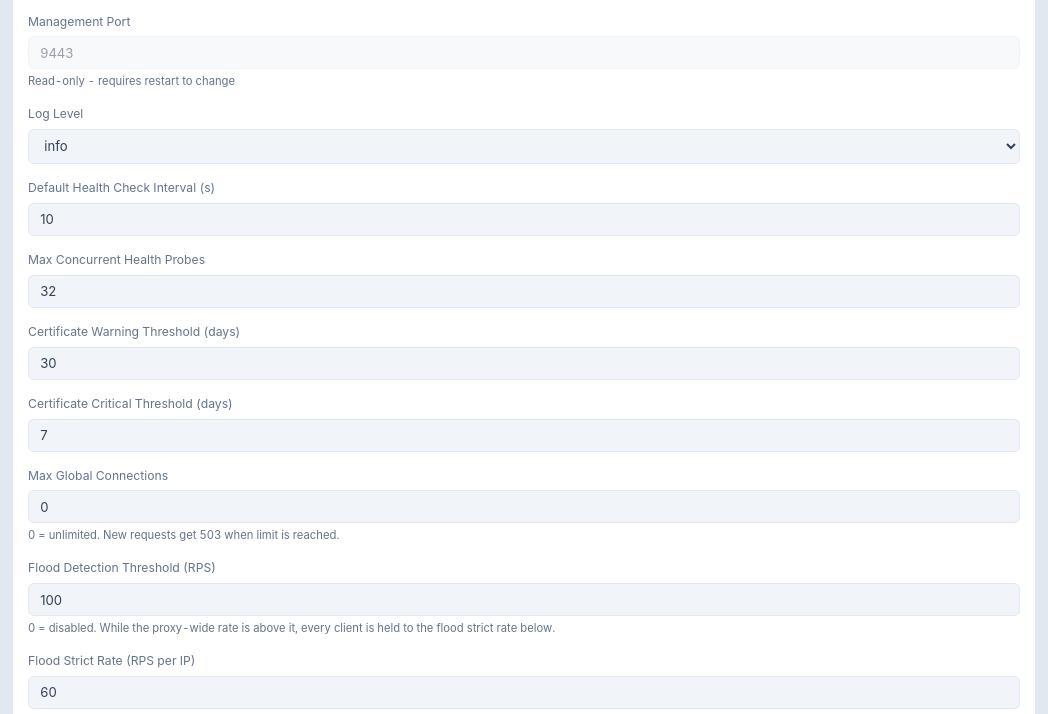
GlobalConfigTab, the settings backlog #89 added › re-weighs the strict rate when the threshold moves under it
Replace the text in the number field labelled "Flood Detection Threshold (RPS)" with "50" at (524, 600), box [28, 583, 1020, 616]
(page scrolled)
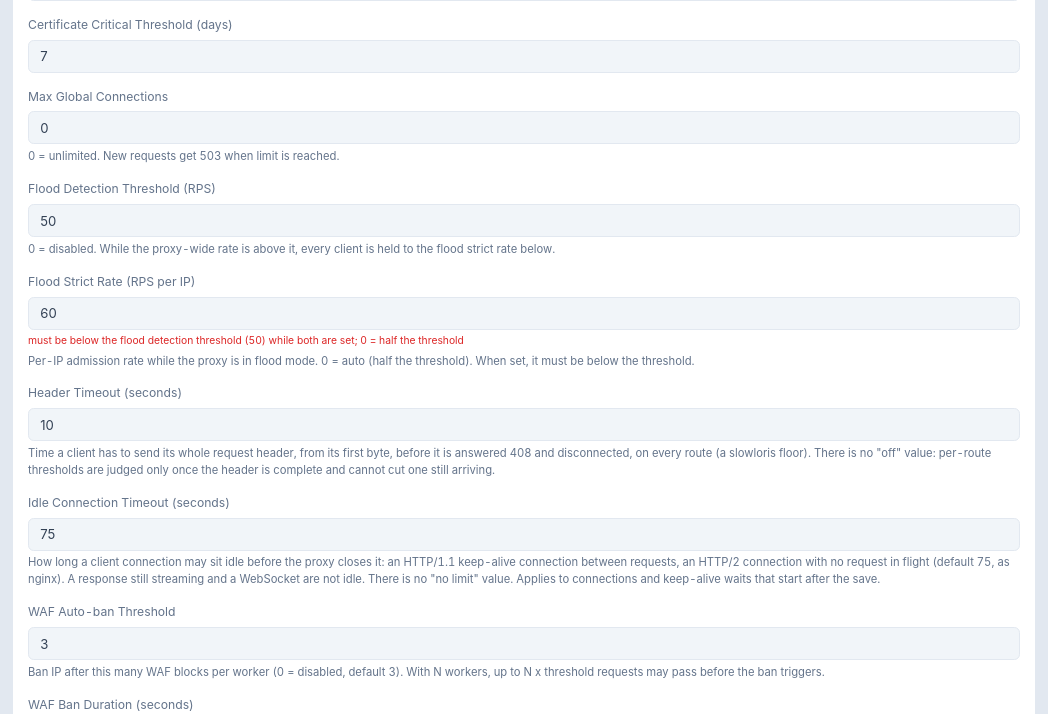
Expected: the message shows "(50)", [28, 334, 464, 346]
